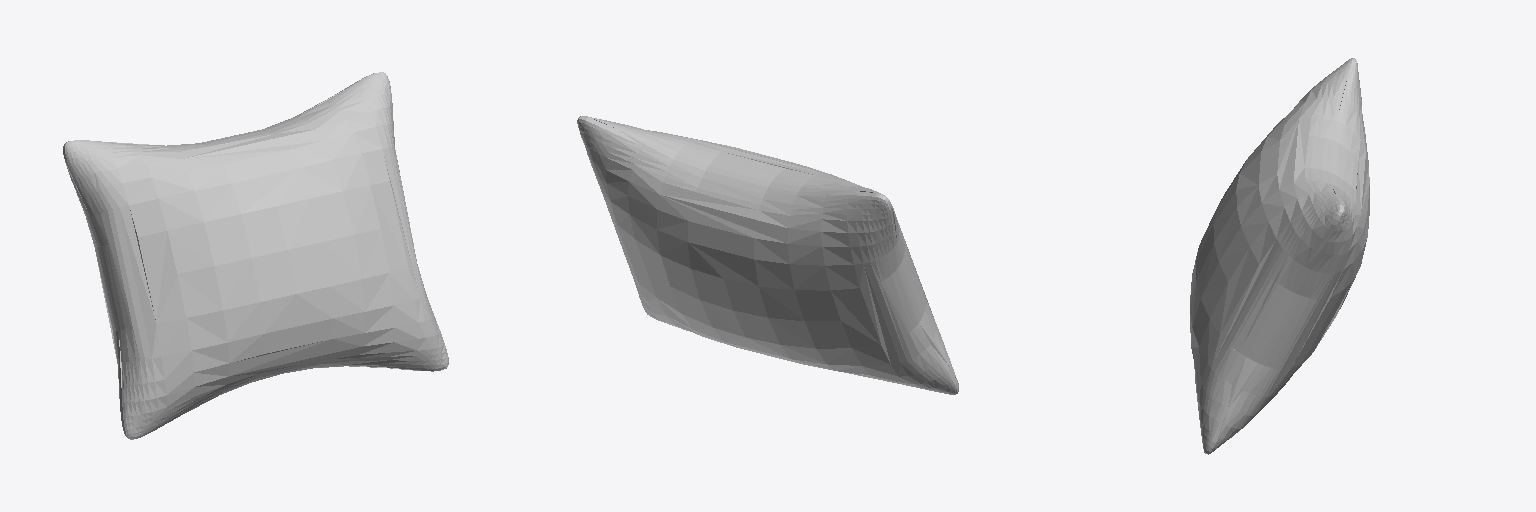
The model's file is Pillow_1.obj.
3 renders of one model, left to right at view 1: azimuth 30°, elevation 25°; view 2: azimuth 150°, elevation 25°; view 3: azimuth 270°, elevation 25°, orthographic.
Visible parts, largest first — view 1: Pillow_5_Cube.000; view 2: Pillow_5_Cube.000; view 3: Pillow_5_Cube.000.
Part boxes in pixels (x1,y1,x2,y2): Pillow_5_Cube.000: (63,72,448,439); Pillow_5_Cube.000: (577,116,958,394); Pillow_5_Cube.000: (1190,58,1369,454).
Bounding box in the file's own units: 0.8005 × 0.5928 × 0.3898.